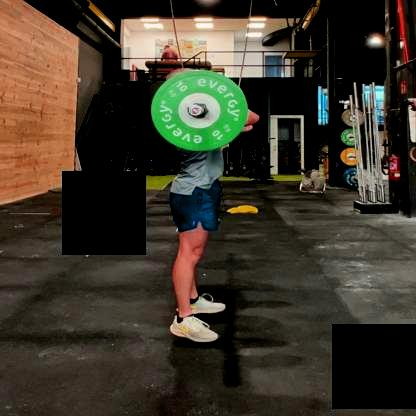barbell: (151, 70, 250, 151)
